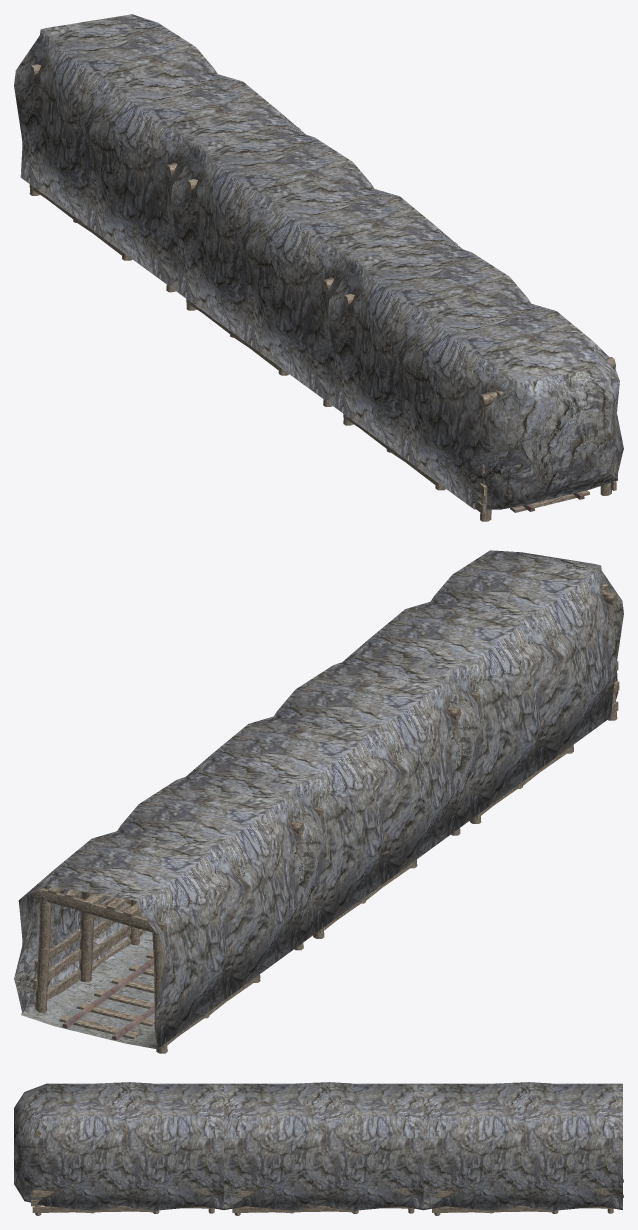
The model's file is Mine005_2.fbx.
3 views of the same model, one above another, from view 1: azimuth 30°, elevation 25°; view 2: azimuth 150°, elevation 25°; view 3: azimuth 270°, elevation 25° (orthographic). The views are drawn at different scales.
Parts seen in each view (by area): view 1: Mine.005; view 2: Mine.005; view 3: Mine.005.
Boxes of the visible parts, bbox=[...] form: Mine.005: bbox=[14, 14, 623, 521]; Mine.005: bbox=[14, 550, 623, 1053]; Mine.005: bbox=[14, 1082, 623, 1215].
Bounding box in the file's own units: 386 × 358 × 2003.
